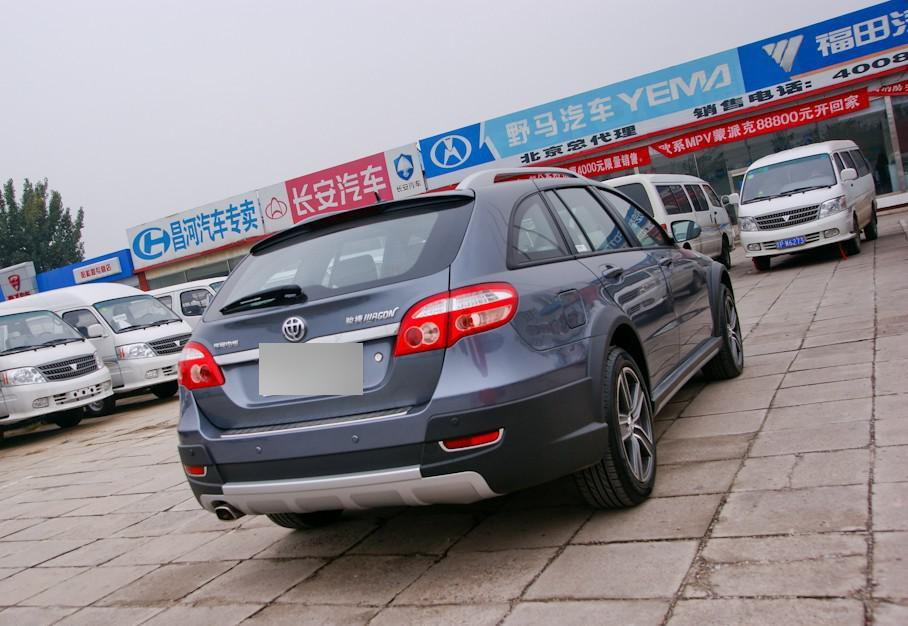Wagon: (178, 165, 744, 521)
